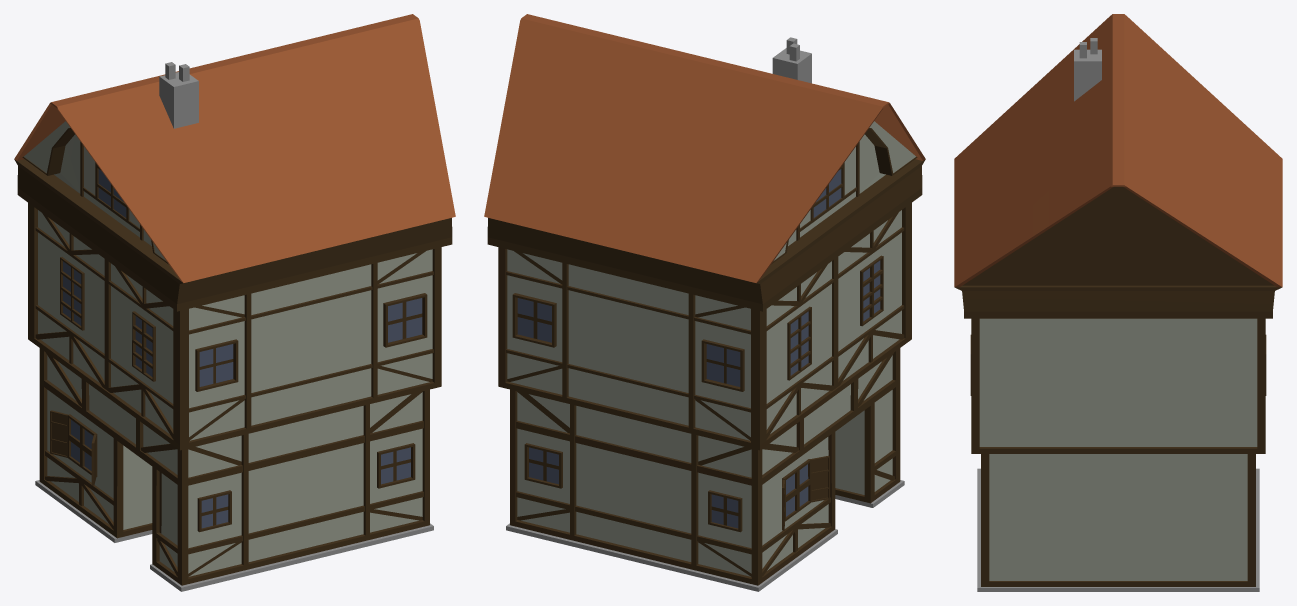
Rendered from medieval_building_002.glb.
3 views of the same model, side by side, from view 1: azimuth 30°, elevation 25°; view 2: azimuth 150°, elevation 25°; view 3: azimuth 270°, elevation 25° (orthographic). The views are drawn at different scales.
Visible parts, largest first — view 1: House2; view 2: House2; view 3: House2.
Part boxes in pixels (<box>): House2: <box>14,14,455,591</box>; House2: <box>484,14,925,591</box>; House2: <box>954,14,1282,591</box>.
Size of the model in its own units: 746 by 930 by 606.
1 material, 1 textured.
